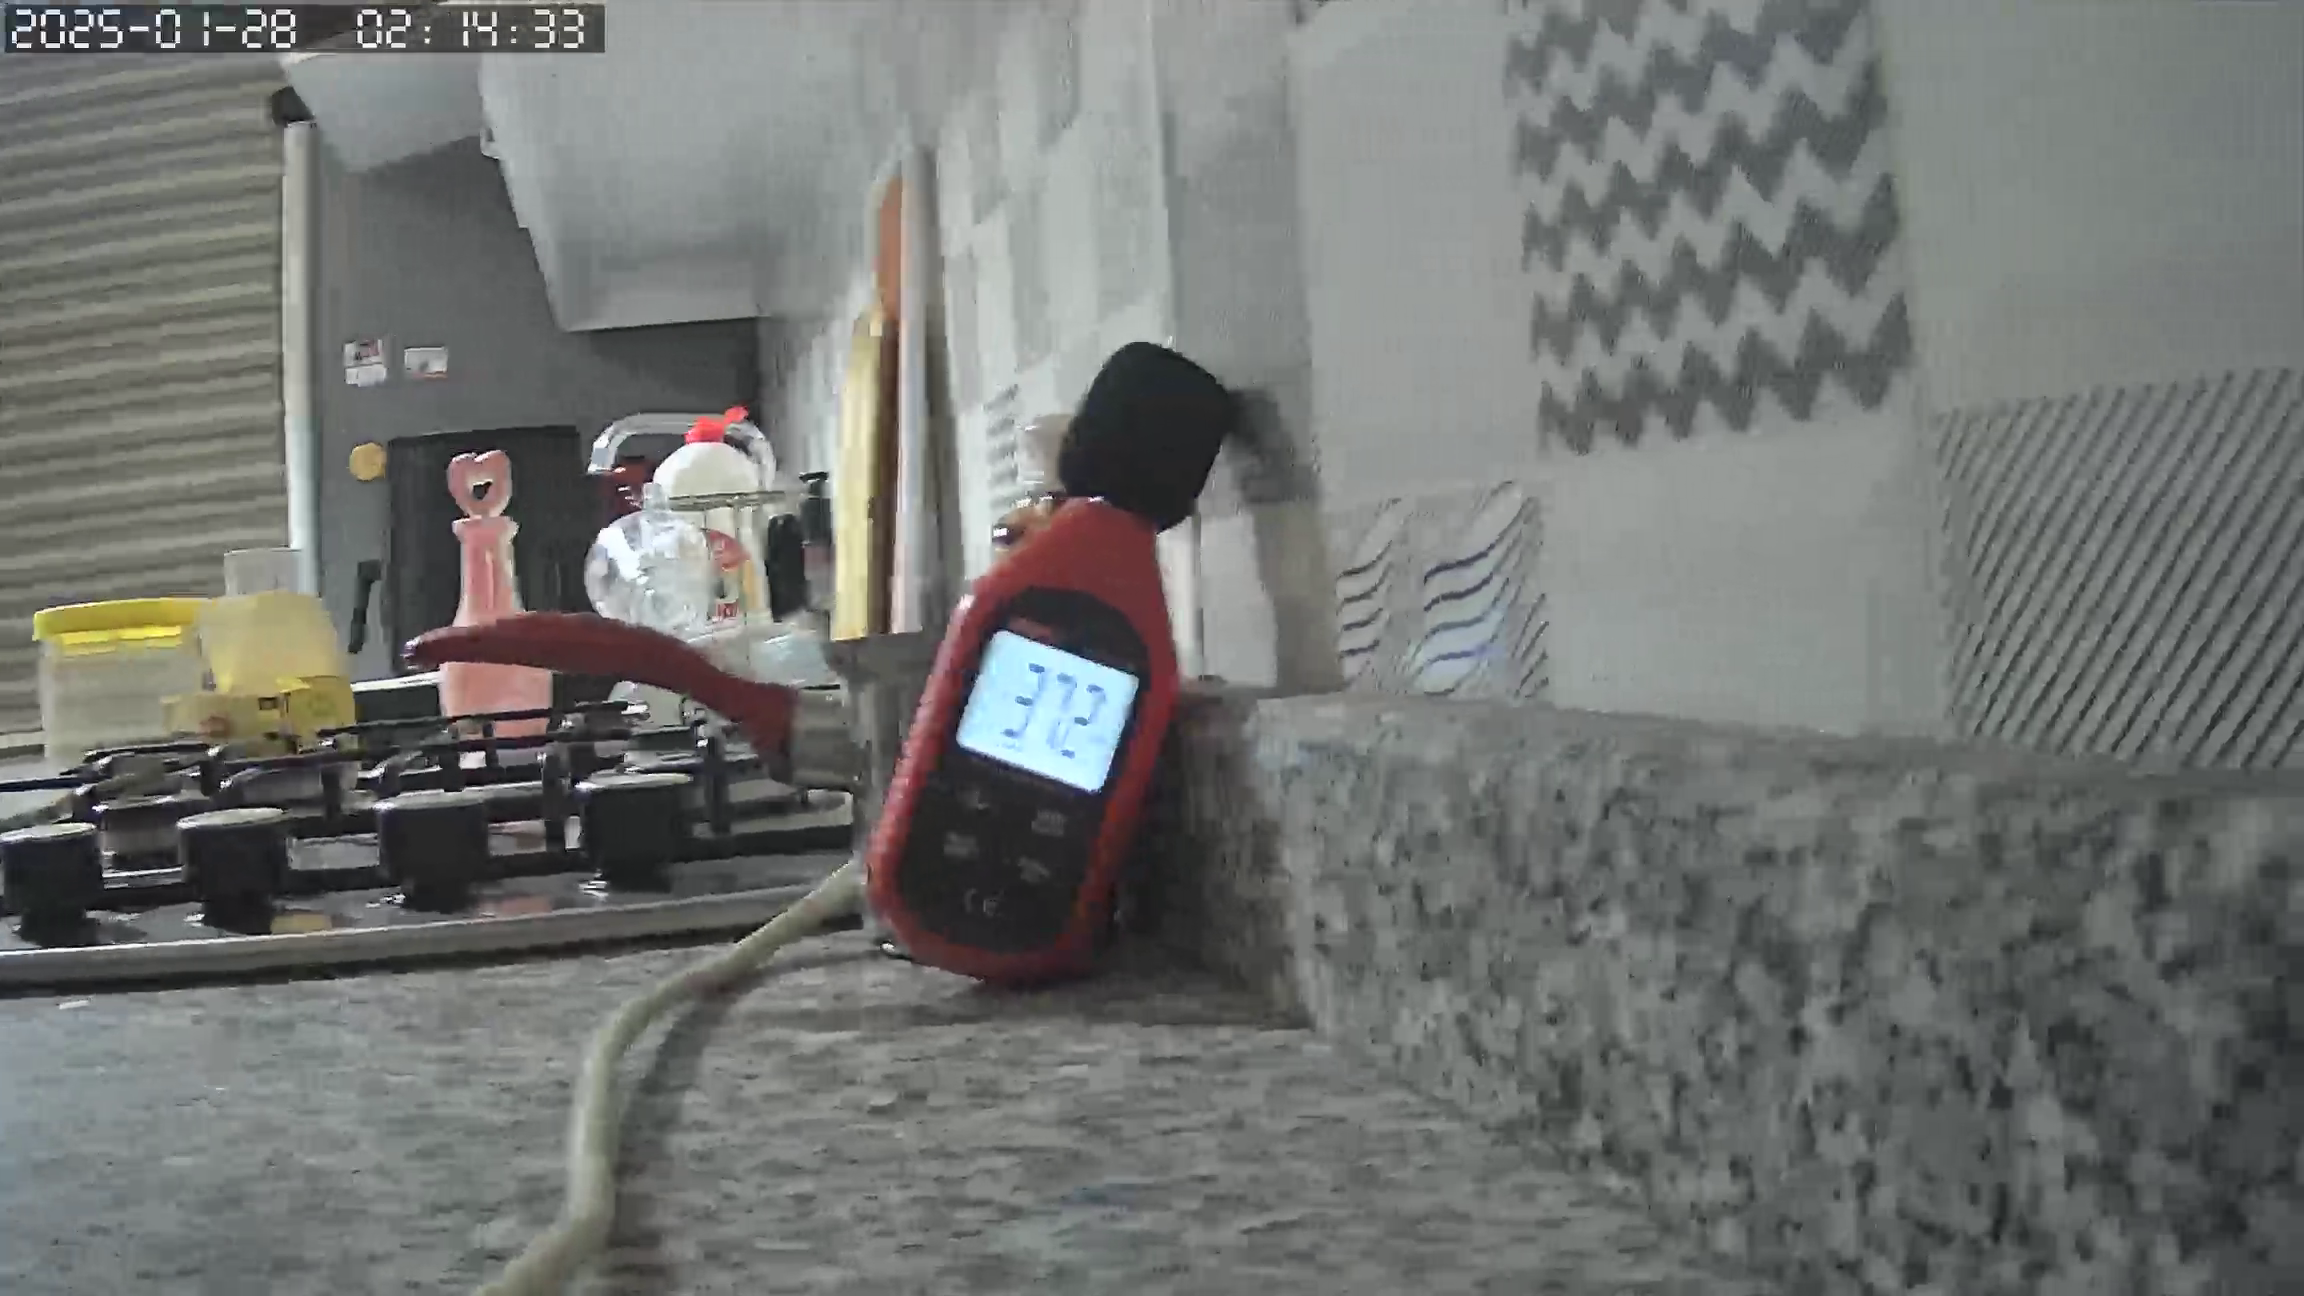screen: (956, 631, 1141, 796)
